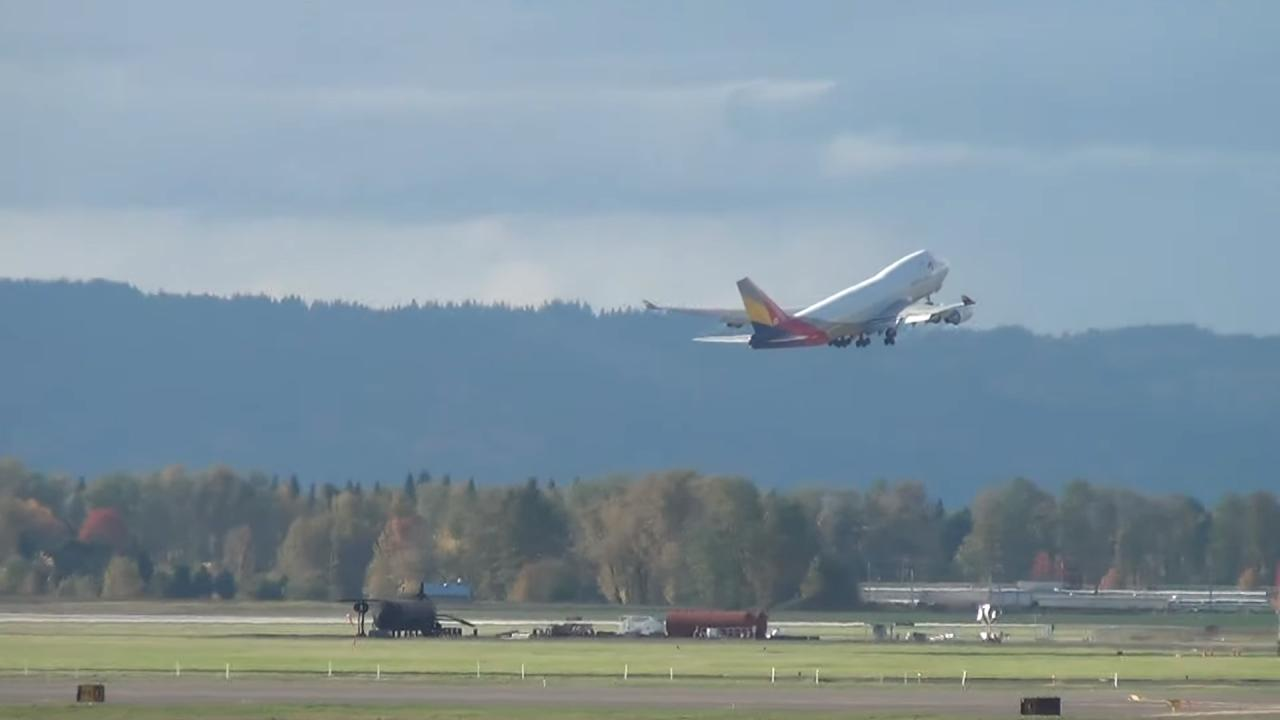Airplane: (639, 238, 994, 359)
